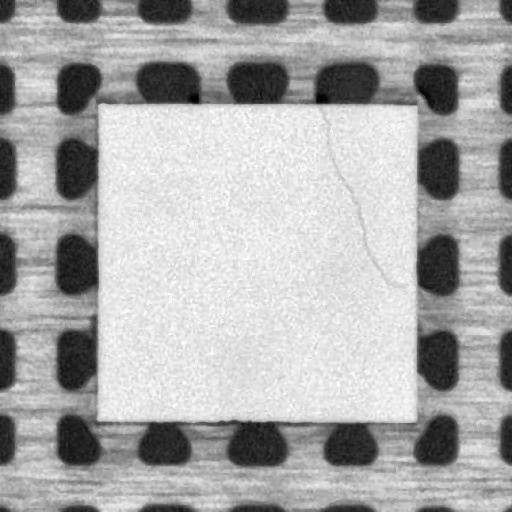DIE_CRACK: (317, 104, 408, 288)
